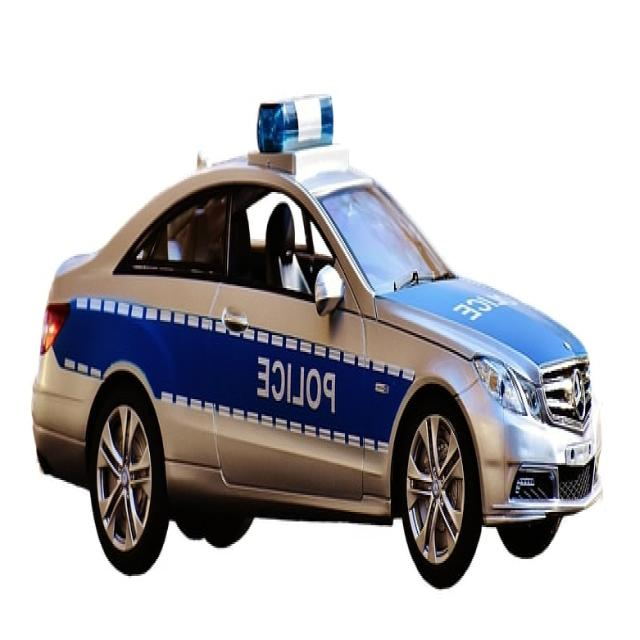Car: (31, 96, 604, 589)
